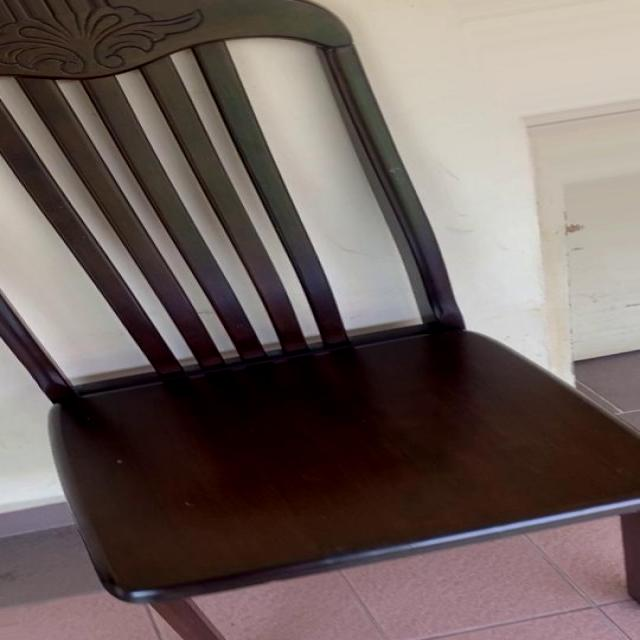Chair: (4, 1, 640, 640)
